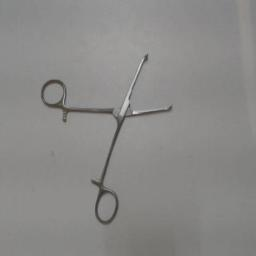Allis Tissue Forceps: (36, 46, 180, 228)
